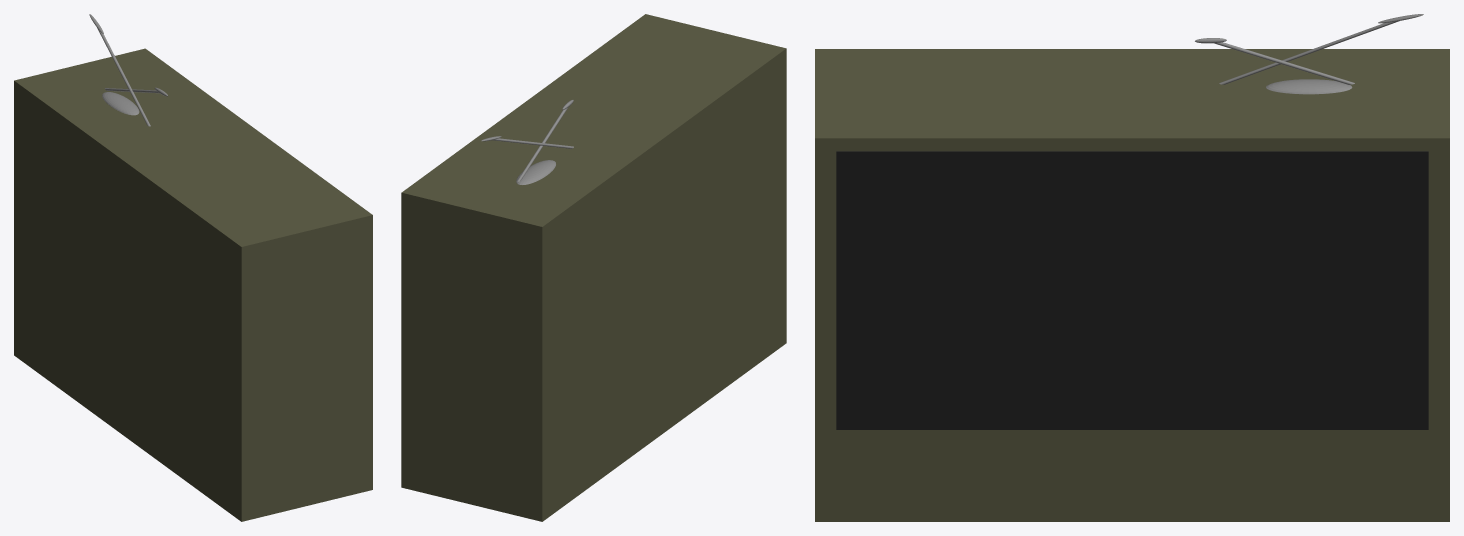
File: Television_v2.glb
3 renders of one model, left to right at view 1: azimuth 30°, elevation 25°; view 2: azimuth 150°, elevation 25°; view 3: azimuth 270°, elevation 25°, orthographic. The views are drawn at different scales.
Visible parts, largest first — view 1: Box, Antenna_Base; view 2: Box, Antenna_Base; view 3: Screen, Box, Antenna_Base, AntennaSpokeRight.
Boxes of the visible parts, x1,y1,x2,y2 form: Box: (14,48,372,521); Antenna_Base: (102,92,139,115); Box: (401,14,786,521); Antenna_Base: (516,160,555,184); Screen: (836,151,1428,429); Box: (815,49,1449,521); Antenna_Base: (1266,79,1352,94); AntennaSpokeRight: (1219,21,1399,84).
Size of the model in its own units: 2.01 by 4.83 by 6.
